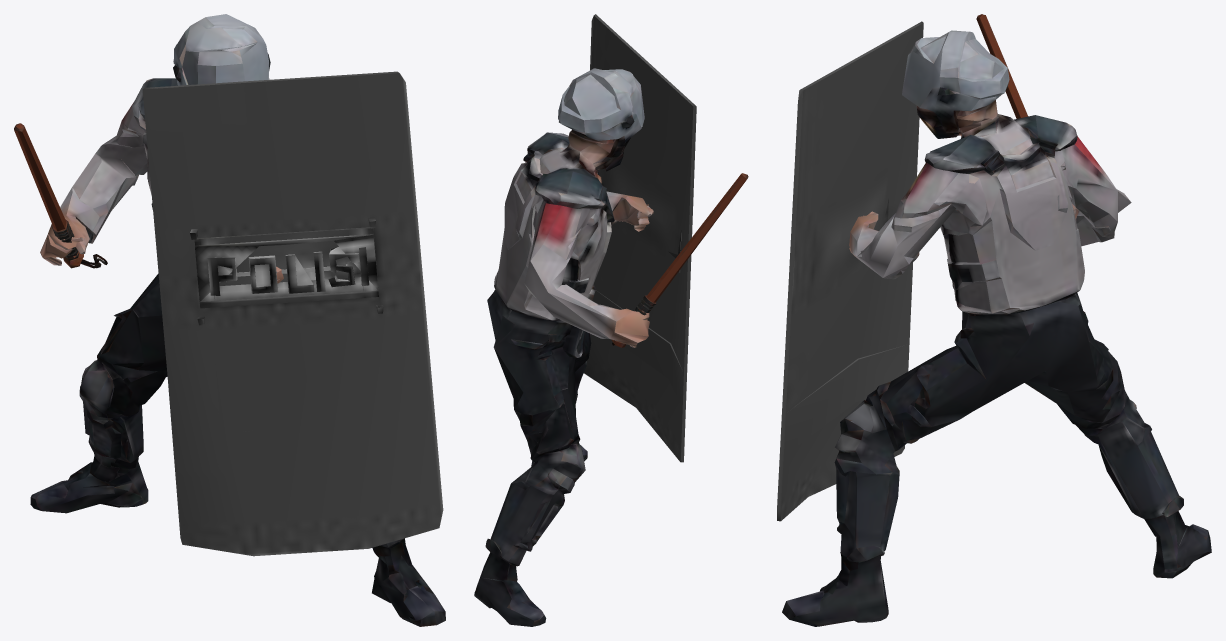
File: samapta_dalmas_idle_lod2.glb
3 renders of one model, left to right at view 1: azimuth 30°, elevation 25°; view 2: azimuth 150°, elevation 25°; view 3: azimuth 270°, elevation 25°, orthographic. The views are drawn at different scales.
Parts seen in each view (by area): view 1: body; view 2: body; view 3: body.
Part boxes in pixels (left/top/right/bottom): body: left=14, top=14, right=445, bottom=626; body: left=474, top=14, right=748, bottom=626; body: left=777, top=14, right=1211, bottom=626.
Bounding box in the file's own units: 55.22 × 89.99 × 67.04.
3 materials, 3 textured.
